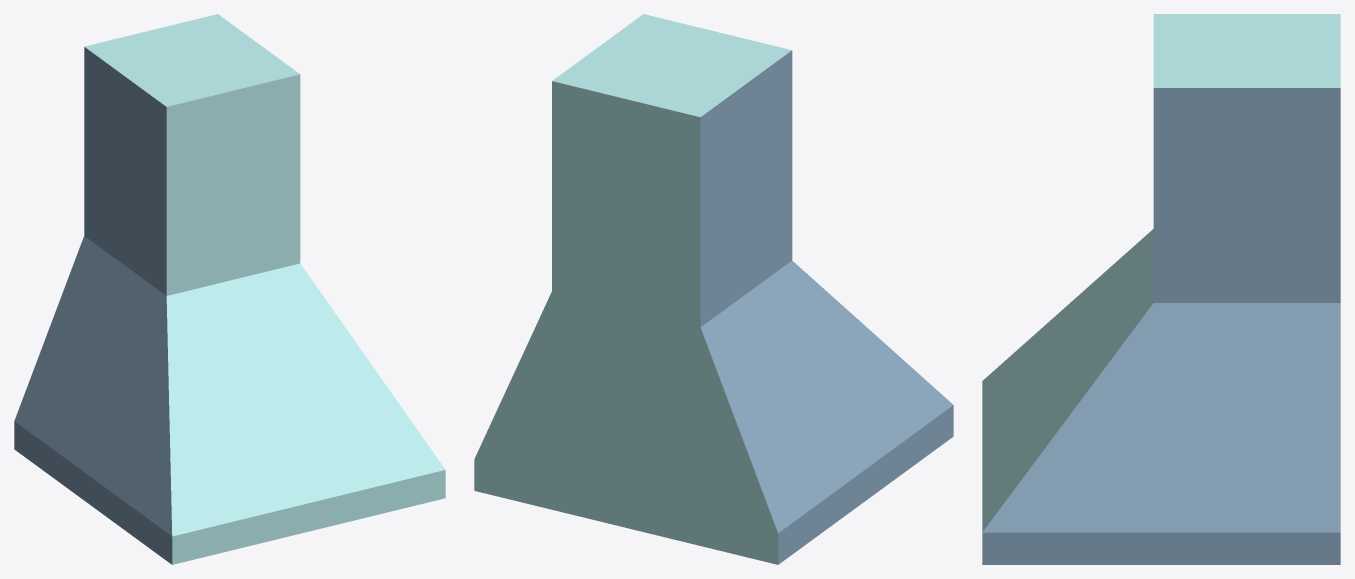
Rendered from Stovetop.fbx.
3 views of the same model, side by side, from view 1: azimuth 30°, elevation 25°; view 2: azimuth 150°, elevation 25°; view 3: azimuth 270°, elevation 25° (orthographic). The views are drawn at different scales.
Visible parts, largest first — view 1: Stovetop; view 2: Stovetop; view 3: Stovetop.
Part boxes in pixels (<box>): Stovetop: <box>14,14,445,564</box>; Stovetop: <box>474,14,953,564</box>; Stovetop: <box>982,14,1340,564</box>.
Size of the model in its own units: 200 by 270 by 200.
